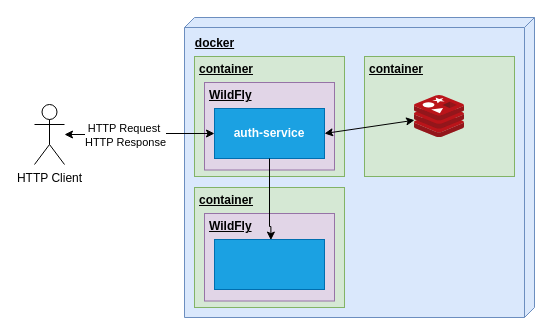
Some shapes in this 552 by 335 pixel diagram are drawn without their labels. The shapes that lost their labels are listed below. From the top down, each one's box as (x1, y1, x2, y2) in pixels, then its label:
(414, 95, 464, 137): Redis
(214, 238, 324, 290): file-service
